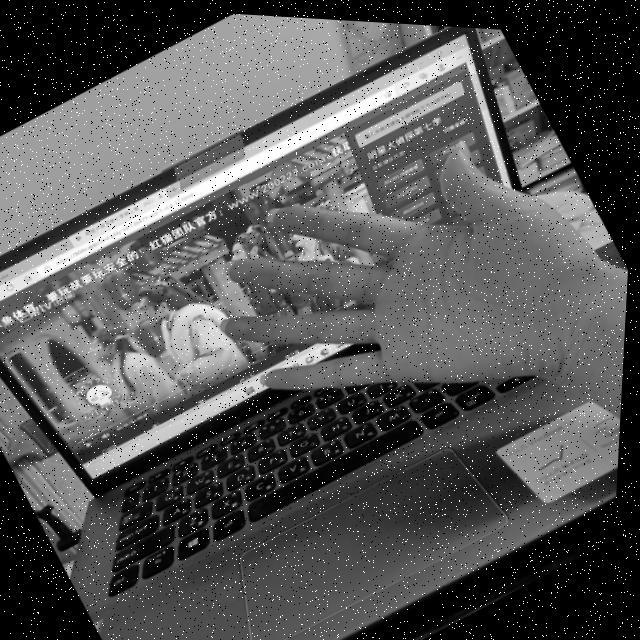no-gloves: (168, 51, 638, 518)
